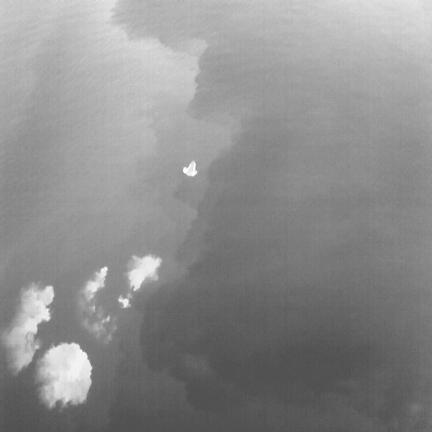flukeprints: (35, 343, 92, 408), (22, 285, 53, 336), (127, 255, 161, 290), (83, 267, 107, 304), (183, 160, 196, 176), (118, 296, 130, 308)
